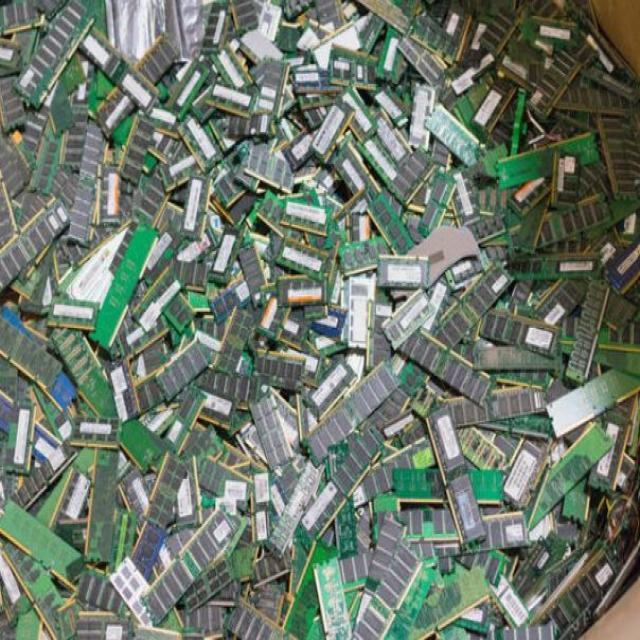electronic: (0, 0, 639, 639), (88, 209, 163, 406), (21, 4, 92, 112)
